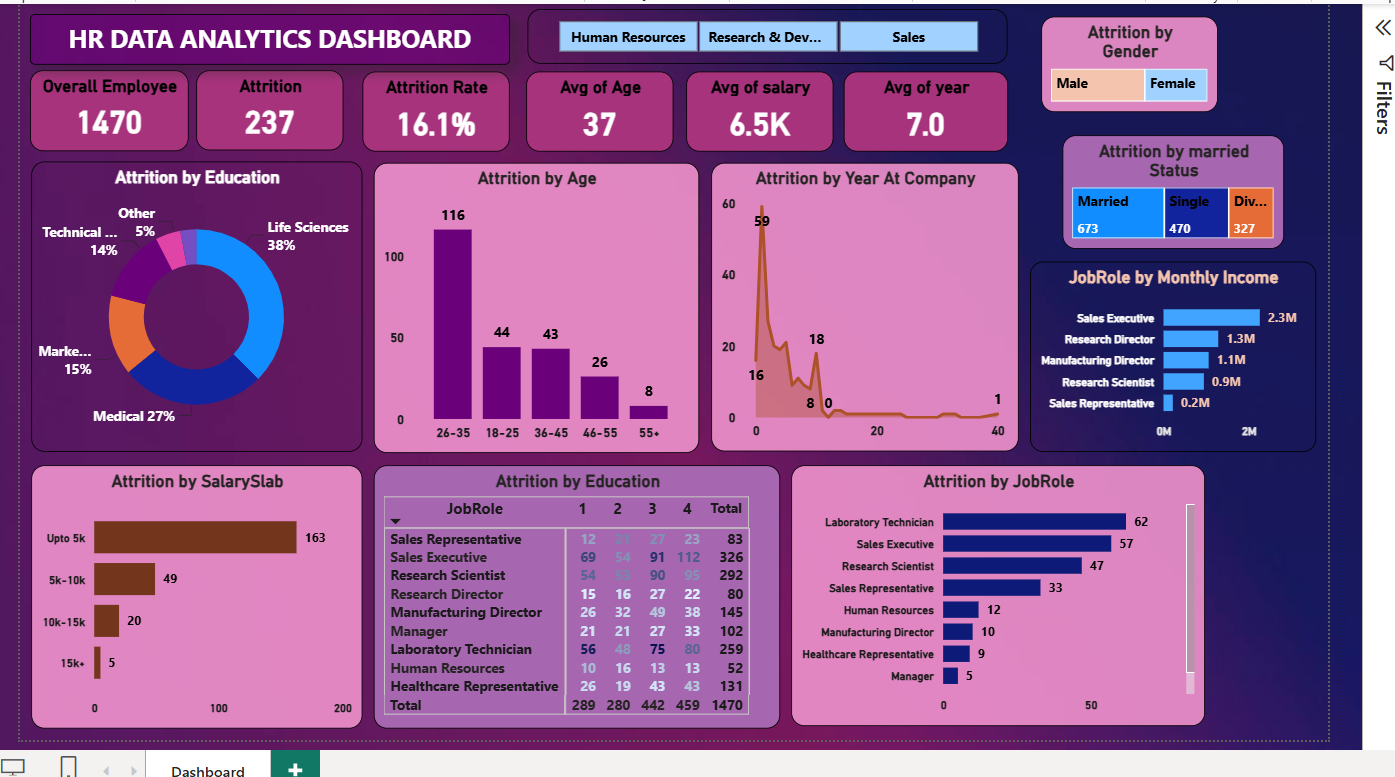

What the dashboard file says about the page in this screenshot:
{"tool":"powerbi","page":{"name":"Dashboard","canvas":[1280,720],"ordinal":0},"visuals":[{"type":"card","title":"Overall Employee","fields":{"Values":["CountNonNull(HR_Analytics.EmpID)"]},"box":[9.6,64.5,155.1,78.2],"z":0},{"type":"card","title":"Attrition","fields":{"Values":["Sum(HR_Analytics.AttritionCount)"]},"box":[172.9,64.5,144.1,78.2],"z":1000},{"type":"card","title":"Attrition Rate","fields":{"Values":["HR_Analytics.AttritionRate"]},"box":[334.8,65.9,144.1,78.2],"z":2000},{"type":"card","title":"Avg of Age","fields":{"Values":["Avg(HR_Analytics.Age)"]},"box":[495.4,65.9,144.1,78.2],"z":3000},{"type":"card","title":"Avg of salary","fields":{"Values":["Avg(HR_Analytics.MonthlyIncome)"]},"box":[651.8,65.9,144.1,78.2],"z":4000},{"type":"card","title":"Avg of year","fields":{"Values":["Avg(HR_Analytics.YearsAtCompany)"]},"box":[805.5,65.9,160.5,78.2],"z":5000},{"type":"donutChart","title":" Attrition by Education","fields":{"Category":["HR_Analytics.EducationField"],"Y":["Sum(HR_Analytics.AttritionCount)"]},"box":[11,153.7,323.8,284],"z":6000},{"type":"columnChart","title":" Attrition by Age","fields":{"Y":["Sum(HR_Analytics.AttritionCount)"],"Category":["HR_Analytics.AgeGroup"]},"box":[345.8,155.1,318.4,284],"z":7000},{"type":"pivotTable","title":" Attrition by Education","fields":{"Rows":["HR_Analytics.JobRole"],"Columns":["HR_Analytics.JobSatisfaction"],"Values":["CountNonNull(HR_Analytics.AttritionCount)"]},"box":[345.8,451.5,397.9,258],"z":8000},{"type":"clusteredBarChart","title":" Attrition by SalarySlab","fields":{"Category":["HR_Analytics.SalarySlab"],"Y":["Sum(HR_Analytics.AttritionCount)"]},"box":[11,451.5,323.8,258],"z":9000},{"type":"clusteredBarChart","title":" Attrition by JobRole","fields":{"Y":["Sum(HR_Analytics.AttritionCount)"],"Category":["HR_Analytics.JobRole"]},"box":[754.7,451.5,404.8,255.2],"z":10000},{"type":"areaChart","title":" Attrition by Year At  Company","fields":{"Category":["HR_Analytics.YearsAtCompany"],"Y":["Sum(HR_Analytics.AttritionCount)"]},"box":[676.5,155.1,300.5,282.7],"z":11000},{"type":"treemap","title":" Attrition by Gender","fields":{"Group":["HR_Analytics.Gender"],"Values":["CountNonNull(HR_Analytics.AttritionCount)"]},"box":[999,12.3,172.9,93.3],"z":12000},{"type":"slicer","title":" Attrition by Age","fields":{"Values":["HR_Analytics.Department"]},"box":[496.7,5.5,469.3,53.5],"z":13000},{"type":"textbox","box":[9.6,9.6,469.3,49.4],"z":14000},{"type":"treemap","title":" Attrition by married Status","fields":{"Group":["HR_Analytics.MaritalStatus"],"Values":["CountNonNull(HR_Analytics.AttritionCount)"]},"box":[1019.6,129,216.8,111.1],"z":14001},{"type":"clusteredBarChart","title":" JobRole by Monthly Income","fields":{"Y":["Sum(HR_Analytics.MonthlyIncome)"],"Category":["HR_Analytics.JobRole"]},"box":[988,252.5,279.9,186.6],"z":14002}]}

Visuals, with their boxes on the page's 1280x720 design canvas (x1, y1, x2, y2). These are canvas units, not pixel positions in the 1395x777 screenshot, which may show the page scaled, cropped or inside an application window:
"Overall Employee" card: (x1=10, y1=64, x2=165, y2=143)
"Attrition" card: (x1=173, y1=64, x2=317, y2=143)
"Attrition Rate" card: (x1=335, y1=66, x2=479, y2=144)
"Avg of Age" card: (x1=495, y1=66, x2=640, y2=144)
"Avg of salary" card: (x1=652, y1=66, x2=796, y2=144)
"Avg of year" card: (x1=806, y1=66, x2=966, y2=144)
" Attrition by Education" donutChart: (x1=11, y1=154, x2=335, y2=438)
" Attrition by Age" columnChart: (x1=346, y1=155, x2=664, y2=439)
" Attrition by Education" pivotTable: (x1=346, y1=452, x2=744, y2=710)
" Attrition by SalarySlab" clusteredBarChart: (x1=11, y1=452, x2=335, y2=710)
" Attrition by JobRole" clusteredBarChart: (x1=755, y1=452, x2=1160, y2=707)
" Attrition by Year At  Company" areaChart: (x1=676, y1=155, x2=977, y2=438)
" Attrition by Gender" treemap: (x1=999, y1=12, x2=1172, y2=106)
" Attrition by Age" slicer: (x1=497, y1=6, x2=966, y2=59)
textbox: (x1=10, y1=10, x2=479, y2=59)
" Attrition by married Status" treemap: (x1=1020, y1=129, x2=1236, y2=240)
" JobRole by Monthly Income" clusteredBarChart: (x1=988, y1=252, x2=1268, y2=439)
